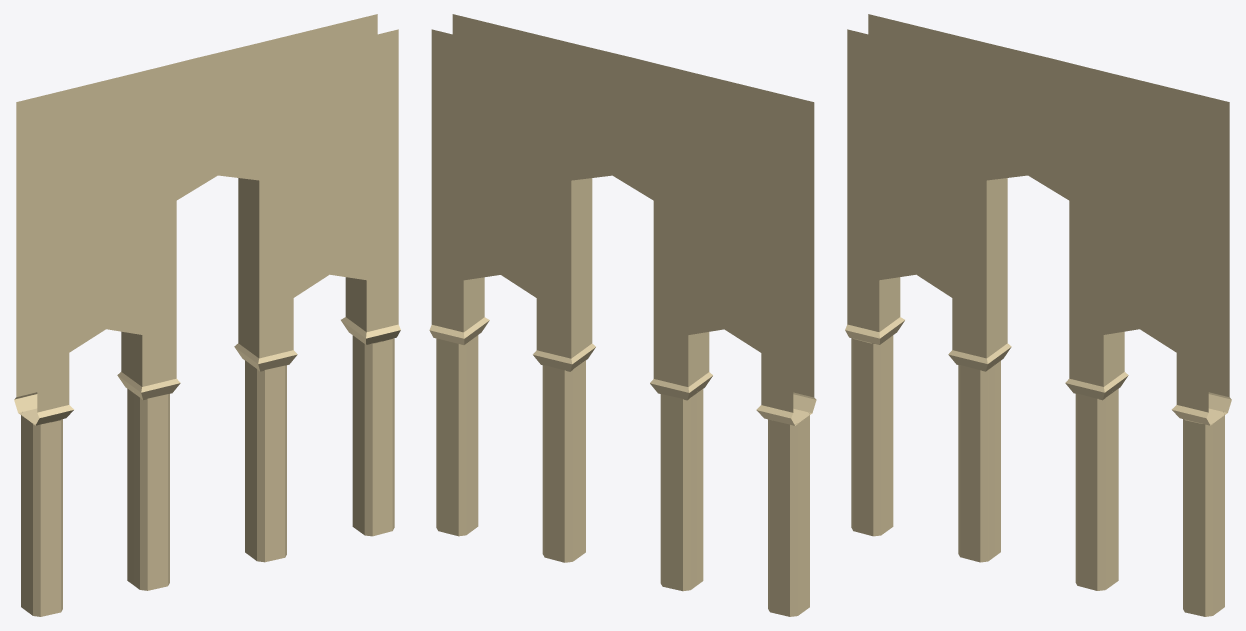
File: Museum_Ark_05.fbx
3 renders of one model, left to right at view 1: azimuth 30°, elevation 25°; view 2: azimuth 150°, elevation 25°; view 3: azimuth 330°, elevation 25°, orthographic.
Visible parts, largest first — view 1: Archi_Arches.002; view 2: Archi_Arches.002; view 3: Archi_Arches.002.
Boxes of the visible parts, bbox=[...] form: Archi_Arches.002: bbox=[14, 14, 400, 616]; Archi_Arches.002: bbox=[429, 14, 816, 616]; Archi_Arches.002: bbox=[845, 14, 1231, 616].
Size of the model in its own units: 515 by 683 by 62.79.
